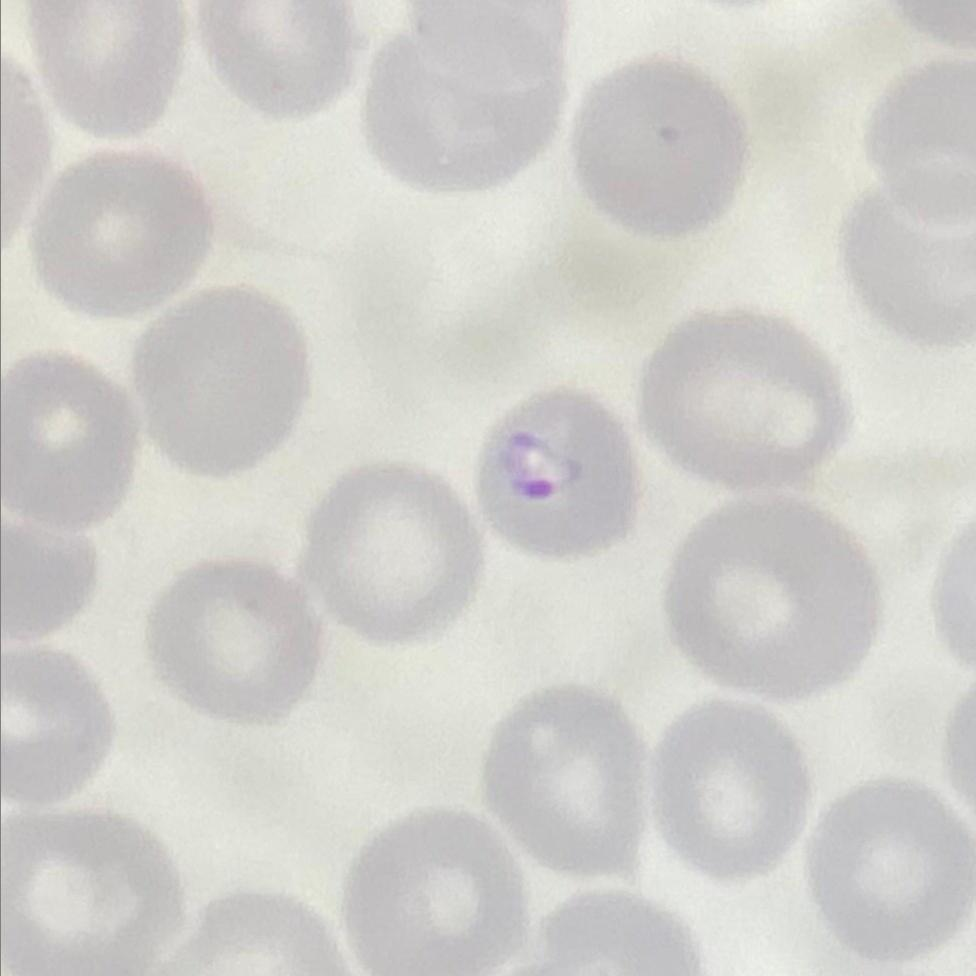Infected: (477, 388, 637, 558)
Uninfected: (637, 306, 852, 495), (667, 501, 874, 696), (472, 686, 648, 880), (368, 21, 558, 199), (307, 461, 484, 648), (808, 776, 972, 965), (570, 61, 744, 239), (33, 156, 222, 318), (135, 296, 309, 470), (143, 561, 322, 730), (3, 816, 186, 976), (341, 818, 526, 976), (650, 701, 808, 885), (2, 351, 148, 531), (838, 168, 976, 351), (24, 0, 182, 146), (0, 643, 121, 816), (197, 0, 359, 126), (870, 58, 976, 224)
